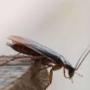cockroach: (6, 34, 76, 78)
